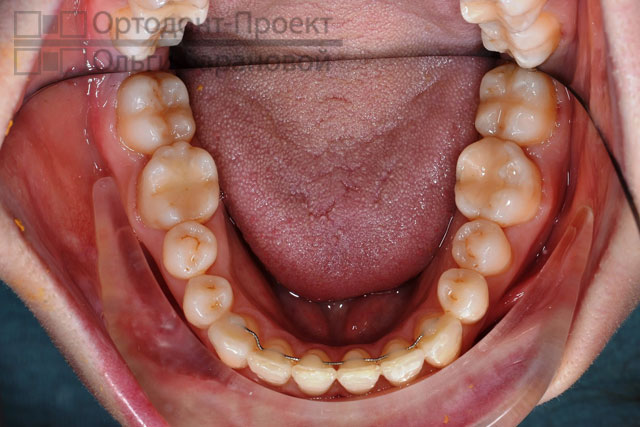LL1BC_decay: (439, 269, 488, 320)
LL1M_healthy: (457, 141, 544, 222)
LL2BC_decay: (452, 218, 515, 273)
LL2M_healthy: (475, 65, 560, 143)
LLCI_decay: (337, 348, 381, 393)
LLC_decay: (413, 308, 463, 363)
LLLI_decay: (377, 339, 424, 385)
LR1BC_decay: (185, 274, 233, 324)
LR1M_healthy: (141, 145, 220, 224)
LR2BC_decay: (166, 219, 217, 278)
LR2M_decay: (122, 72, 196, 145)
LRCI_decay: (294, 347, 337, 395)
LRC_decay: (215, 314, 255, 367)
LRLI_decay: (251, 339, 294, 387)
